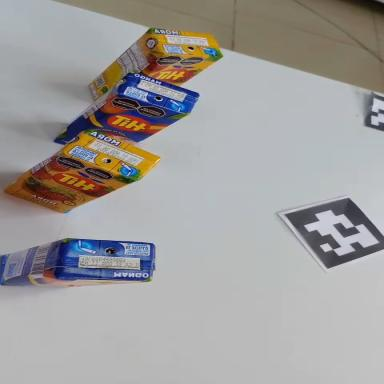HIT-MANGO: (44, 48, 206, 177), (0, 238, 155, 286)
HIT-MORA: (0, 106, 165, 232), (81, 16, 226, 100)
cara_F: (48, 69, 189, 178), (0, 130, 138, 234), (142, 54, 222, 88), (0, 276, 149, 290)
